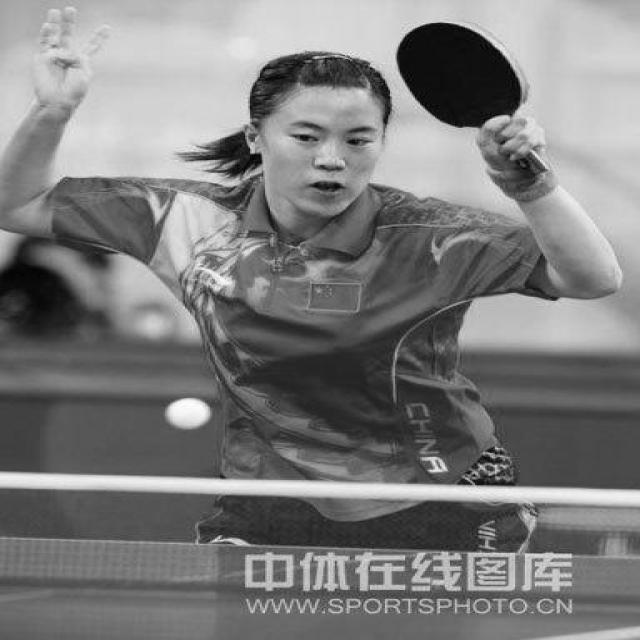ping-pong-ball: (164, 396, 212, 430)
